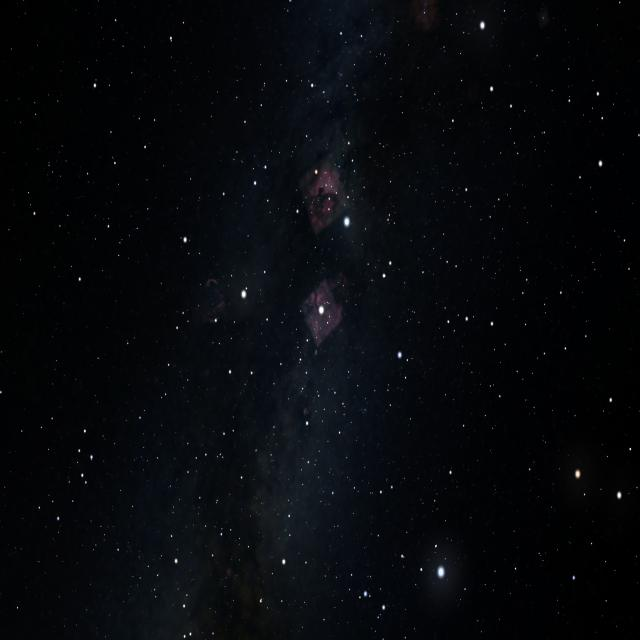Cygnus: (136, 143, 494, 572)
